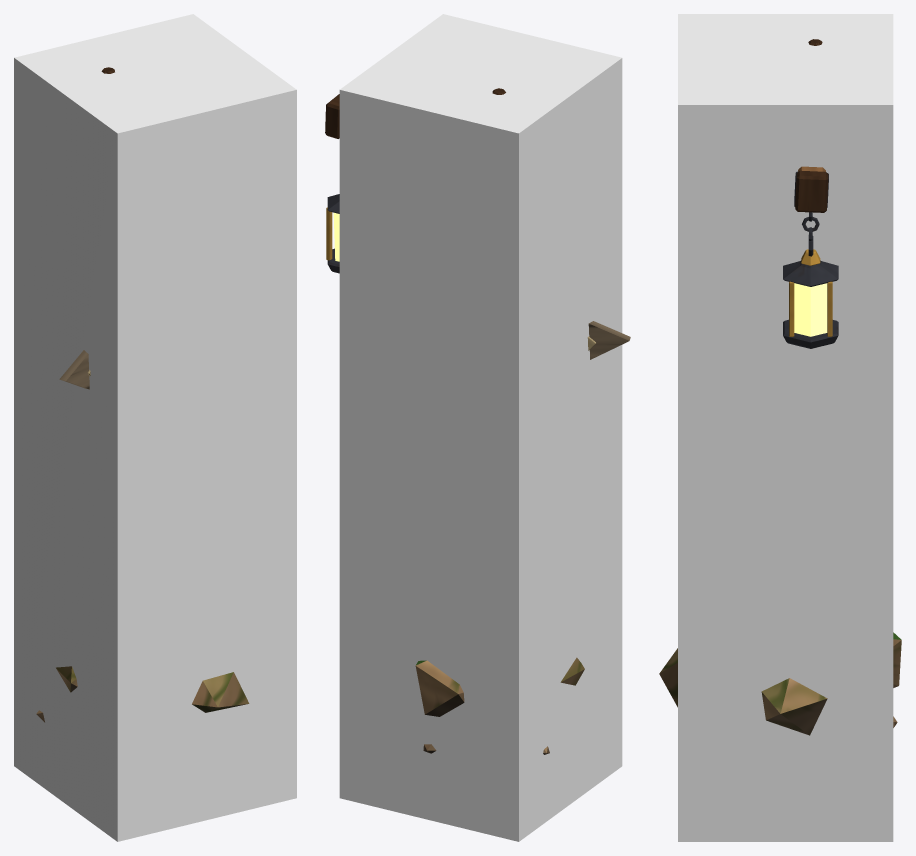
The model's file is trail_lantern_post.glb.
3 renders of one model, left to right at view 1: azimuth 30°, elevation 25°; view 2: azimuth 150°, elevation 25°; view 3: azimuth 270°, elevation 25°, orthographic. The views are drawn at different scales.
Parts seen in each view (by area): view 1: col_lantern_post, TrailLanternPost; view 2: col_lantern_post, TrailLanternPost; view 3: col_lantern_post, TrailLanternPost.
Boxes of the visible parts, x1,y1,x2,y2 form: col_lantern_post: [14, 14, 296, 841]; TrailLanternPost: [36, 67, 249, 722]; col_lantern_post: [339, 14, 622, 841]; TrailLanternPost: [325, 88, 630, 754]; col_lantern_post: [678, 14, 893, 841]; TrailLanternPost: [659, 39, 901, 735].
Size of the model in its own units: 1.71 by 4.4 by 1.31.
Materials: 9 (7 with a texture image).
